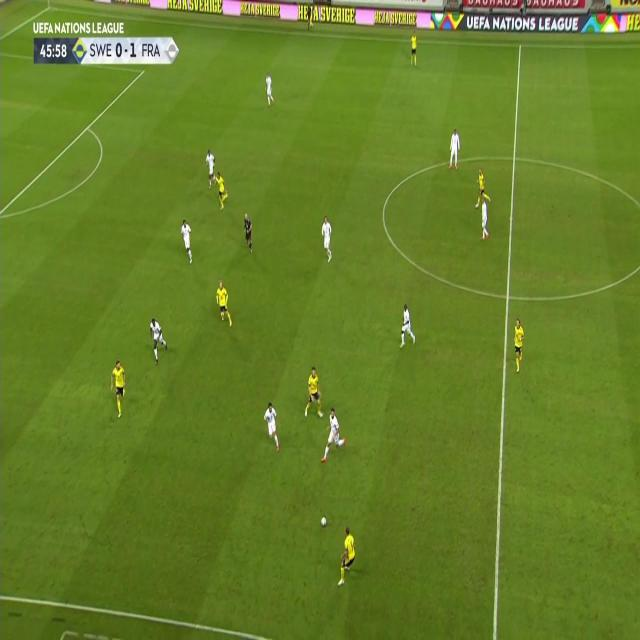ball: (319, 514, 327, 527)
player: (320, 406, 346, 465), (336, 526, 357, 588), (303, 366, 324, 422), (109, 357, 127, 419), (147, 316, 168, 364), (262, 401, 280, 452), (215, 279, 233, 327), (399, 302, 417, 350), (512, 316, 526, 374), (179, 218, 194, 266), (320, 214, 334, 264), (475, 168, 491, 209), (447, 127, 461, 172), (215, 172, 229, 214), (478, 194, 490, 242), (204, 148, 217, 188), (242, 212, 254, 254), (264, 72, 274, 107), (409, 30, 418, 67), (306, 6, 314, 30)
